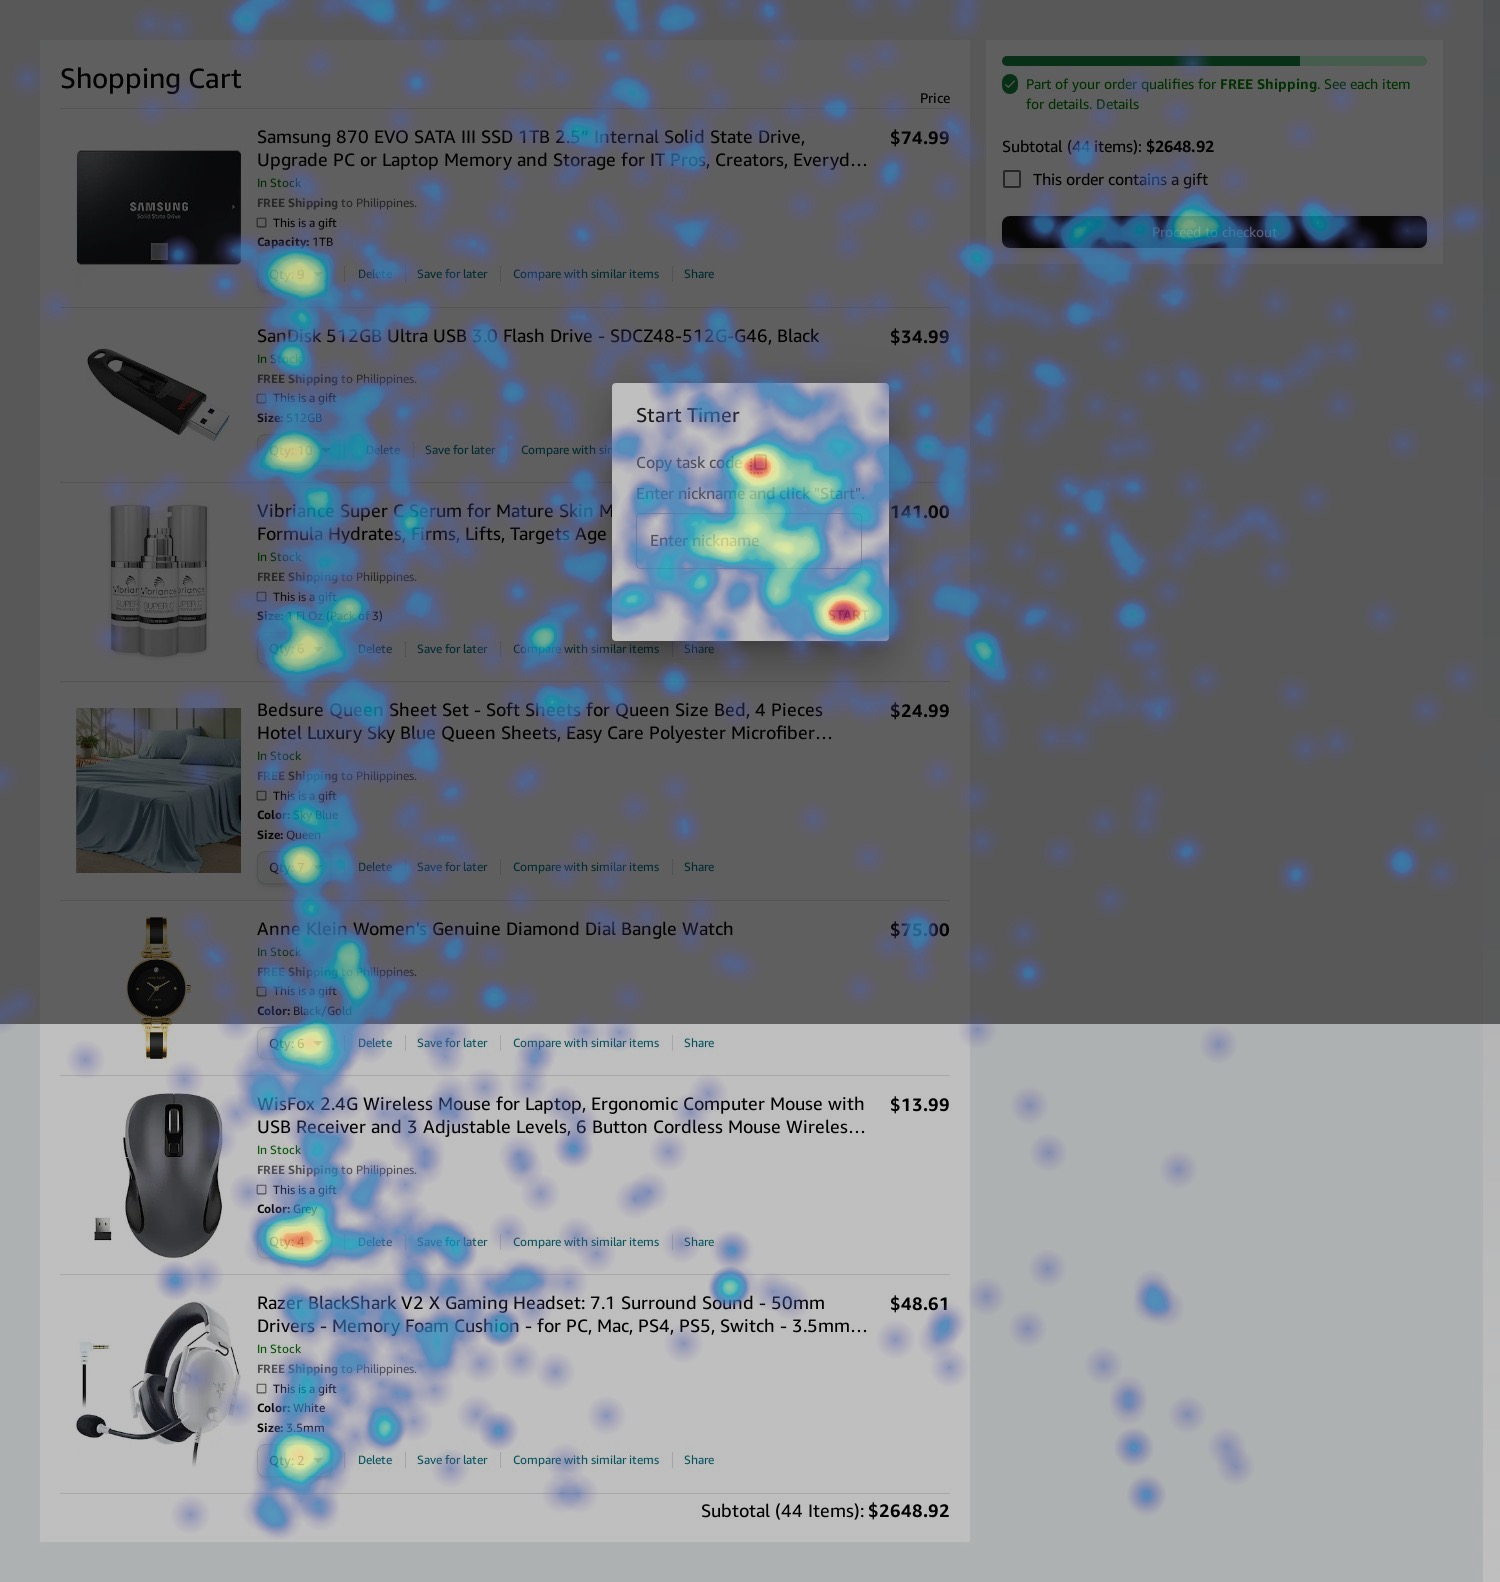checkout: (1000, 217, 1427, 250)
nickname: (634, 515, 864, 567)
qty: (254, 852, 336, 883), (257, 633, 338, 663), (257, 258, 337, 288), (255, 436, 336, 465), (255, 1028, 336, 1057), (257, 1227, 337, 1256), (255, 1447, 336, 1476)
start: (808, 596, 887, 632)
task_code: (742, 451, 774, 479)
